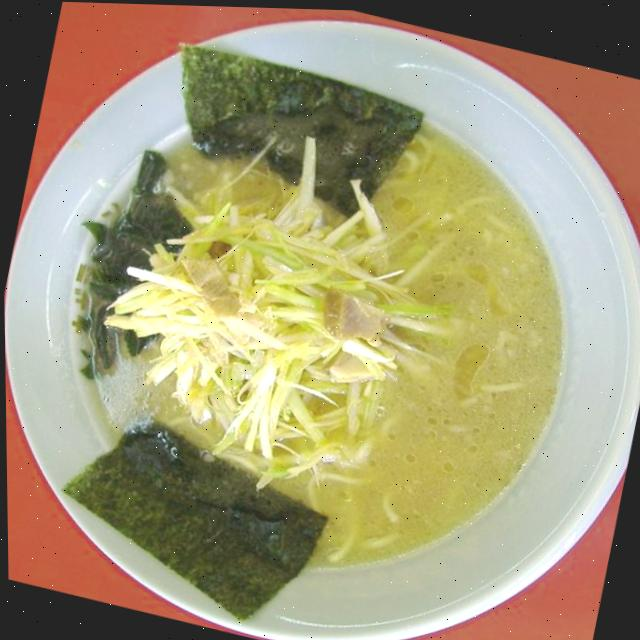面条主食: (20, 3, 632, 640)
